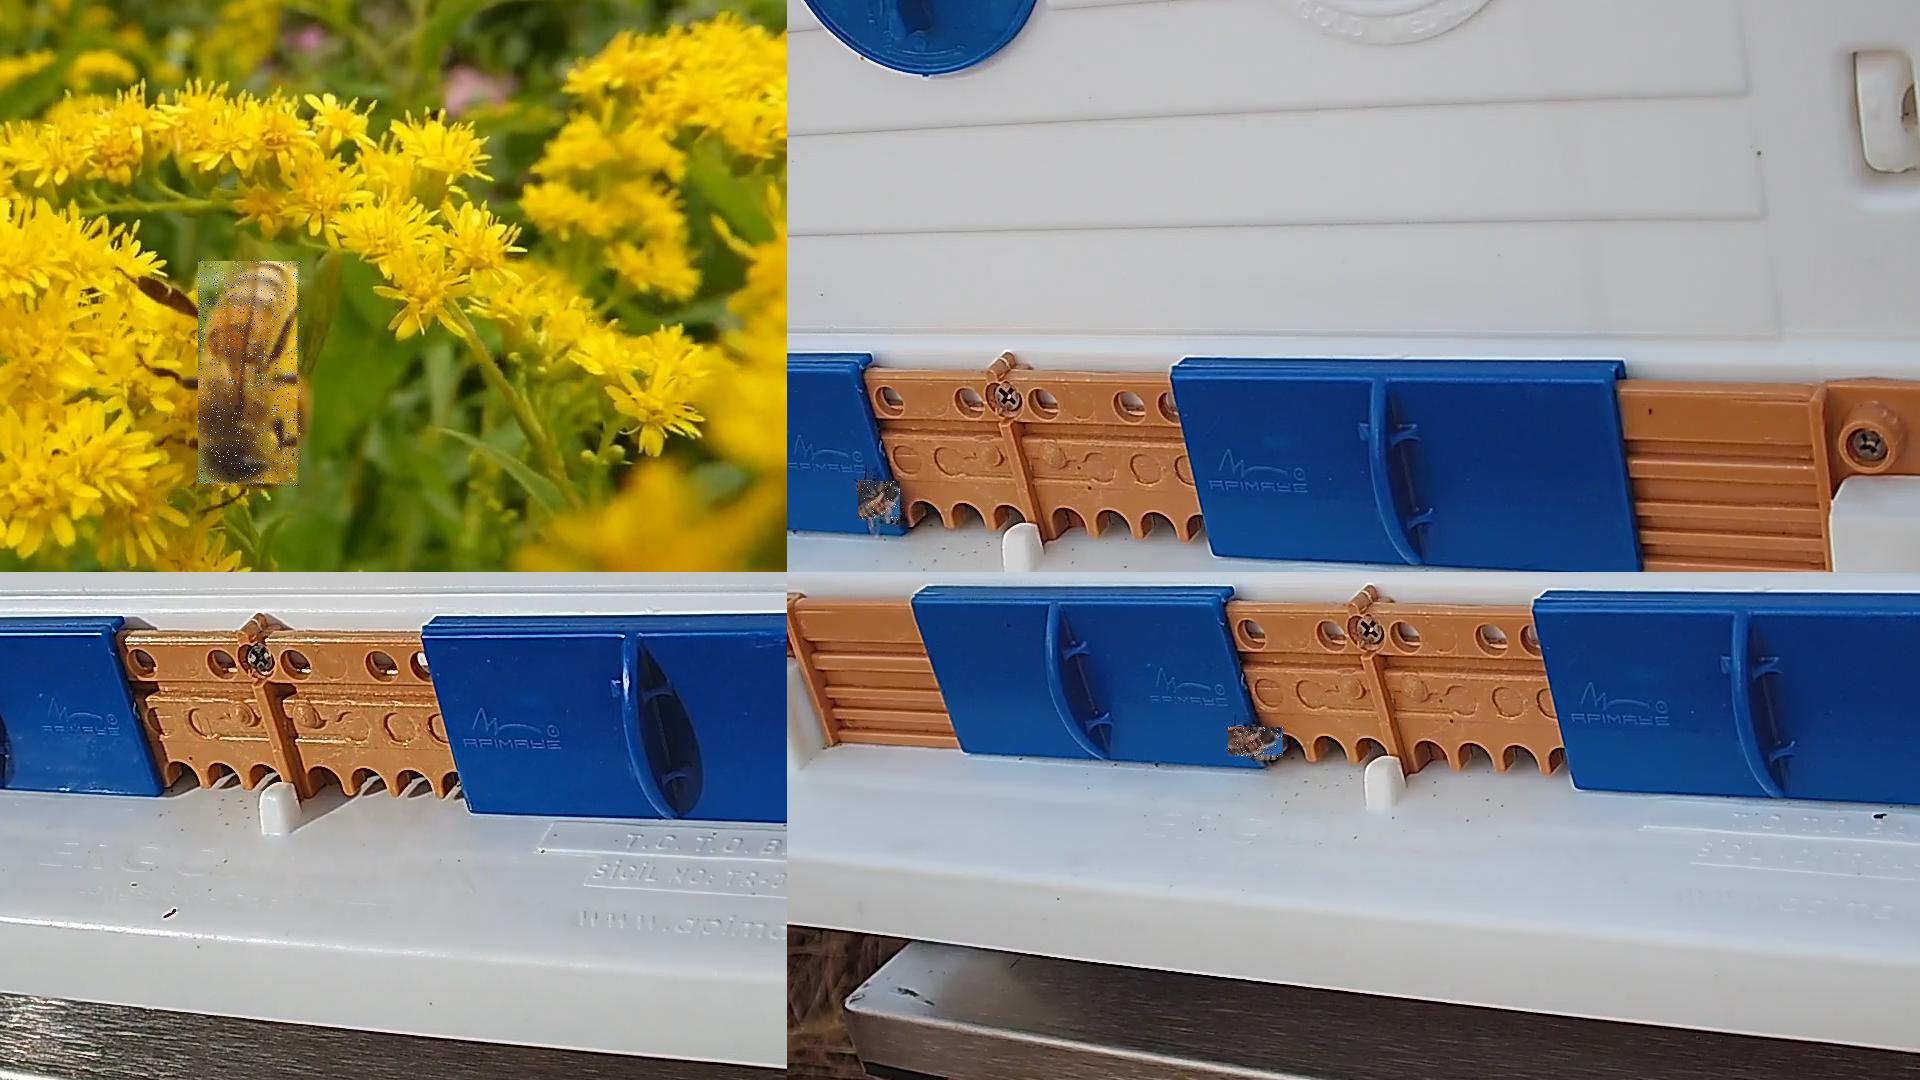bee: (199, 262, 302, 488), (1228, 728, 1284, 760), (858, 481, 901, 524)
